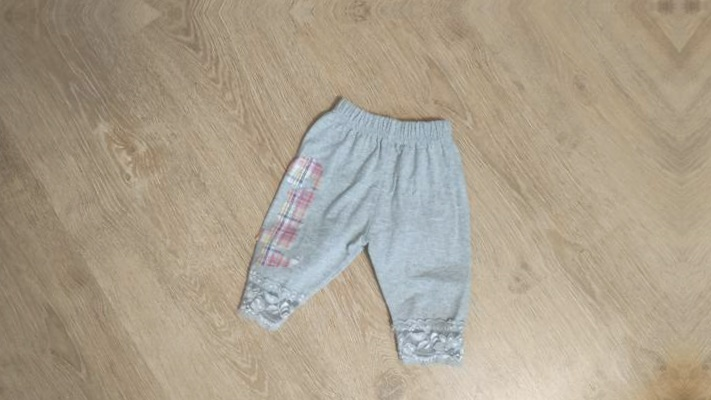Pants: (225, 99, 483, 383)
